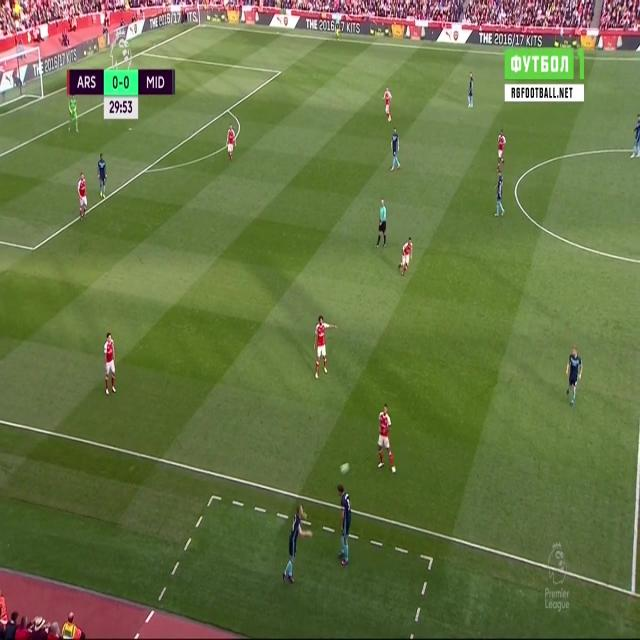Ball: (338, 460, 352, 478)
Goalkeeper: (66, 93, 80, 135)
Player: (280, 501, 313, 587), (311, 314, 340, 383), (376, 402, 398, 478), (336, 482, 352, 572), (564, 345, 584, 407), (102, 329, 116, 399), (397, 233, 414, 279), (77, 170, 89, 226), (96, 151, 108, 203), (224, 121, 238, 164), (390, 125, 402, 175), (494, 170, 506, 220), (628, 109, 640, 159), (494, 127, 507, 170), (382, 85, 395, 127), (466, 70, 476, 110)
Referee: (376, 195, 389, 249)
